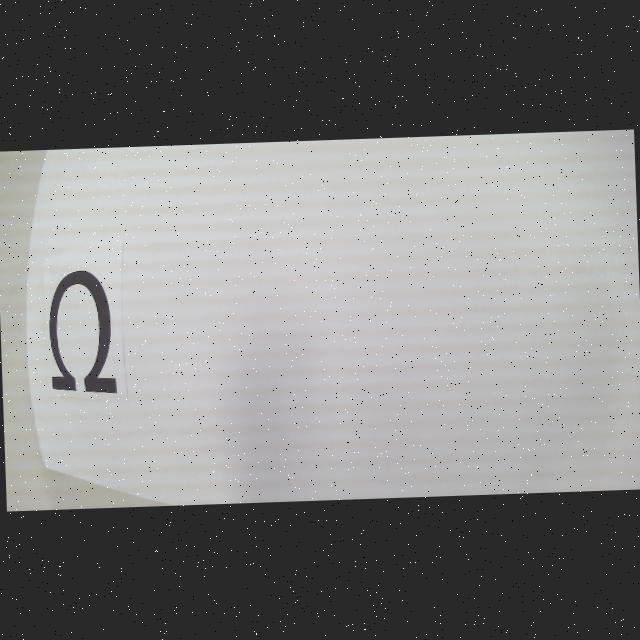OMEGA: (48, 270, 118, 396)
